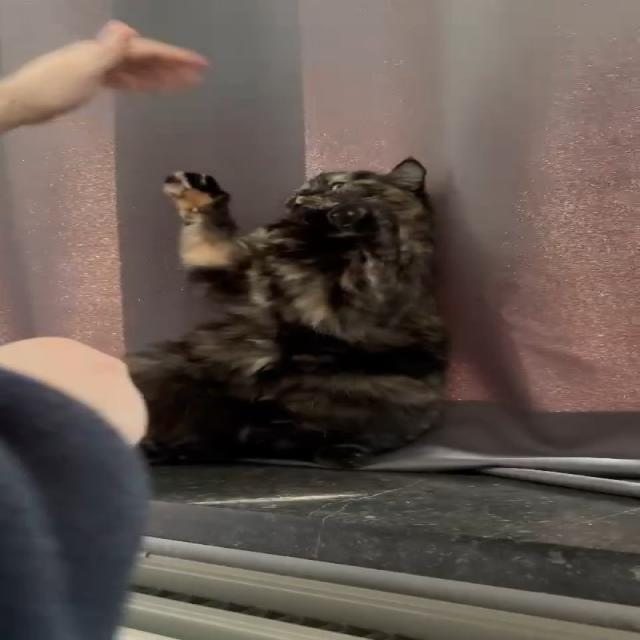authorized: (122, 156, 450, 469)
